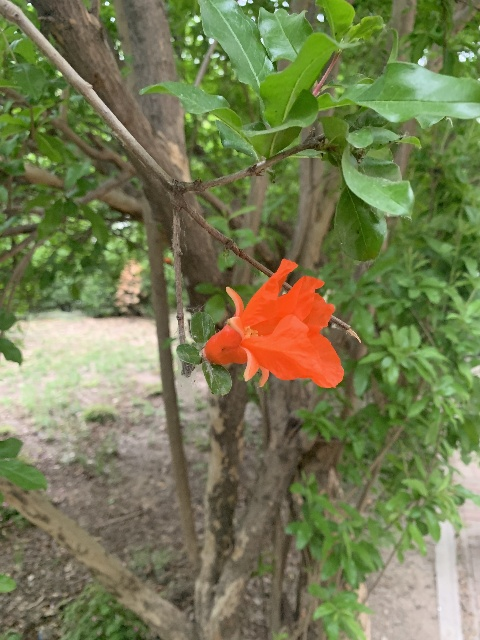flower: (203, 256, 342, 390)
